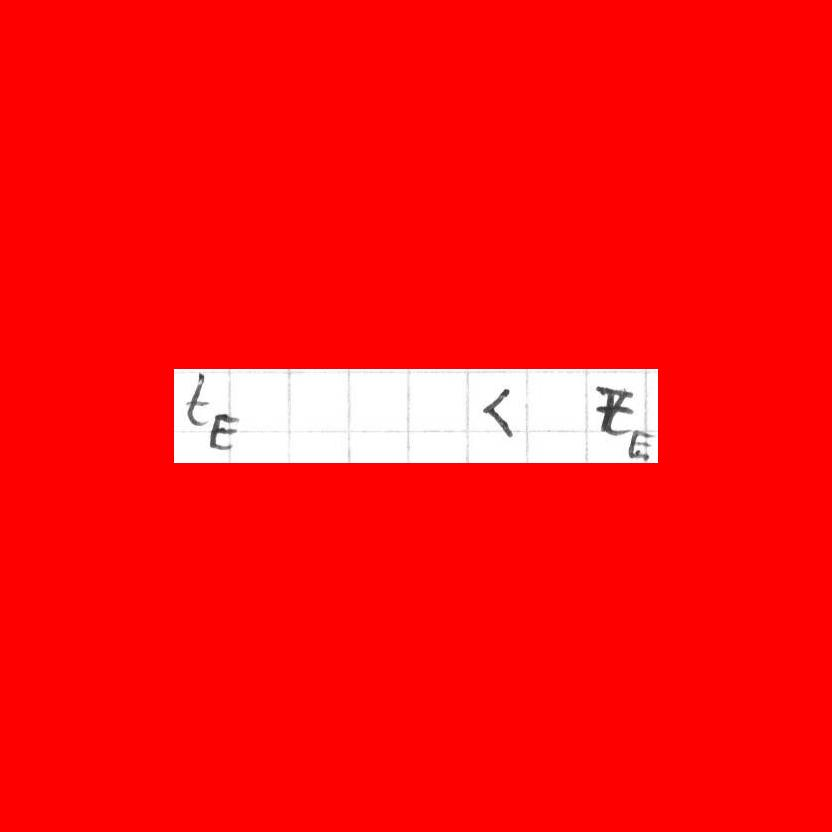Char: (479, 382, 519, 442), (594, 381, 632, 436), (182, 370, 212, 428), (207, 409, 243, 451), (624, 426, 656, 463)
